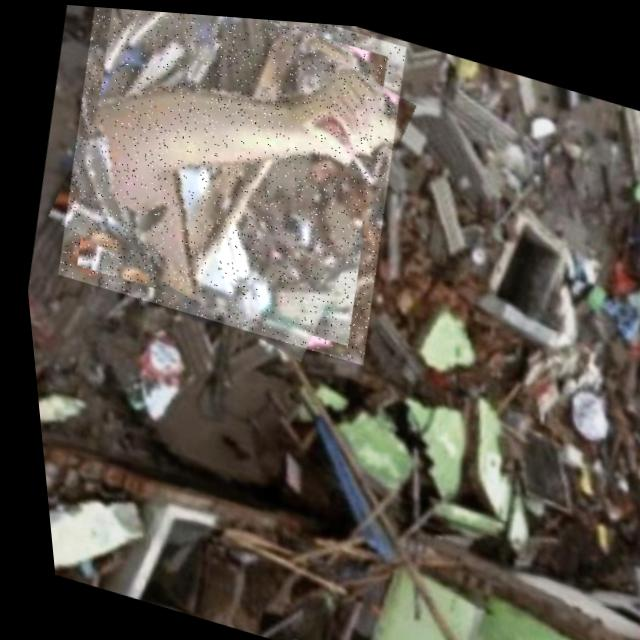Person in Rubble: (30, 2, 429, 363)
